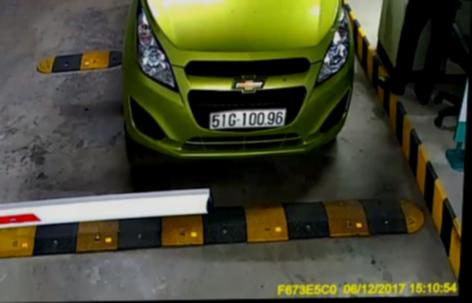License_Plate: (207, 107, 289, 133)
